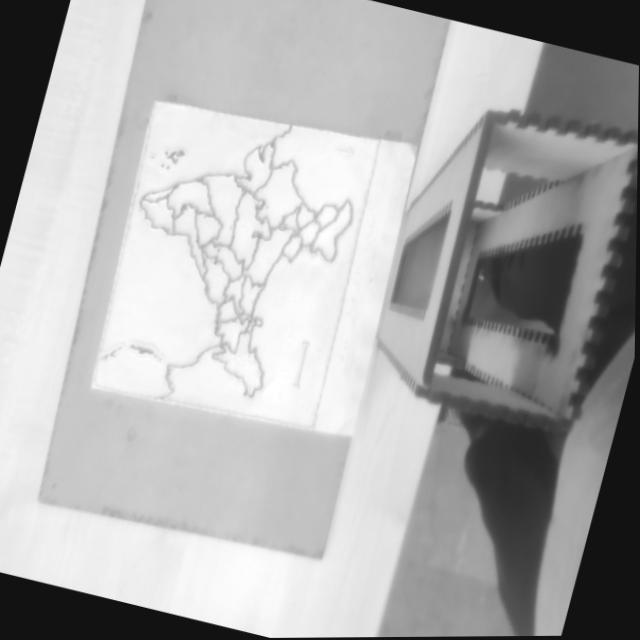map: (87, 88, 380, 438)
